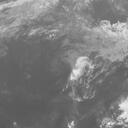cyclone: (66, 55, 100, 94)
